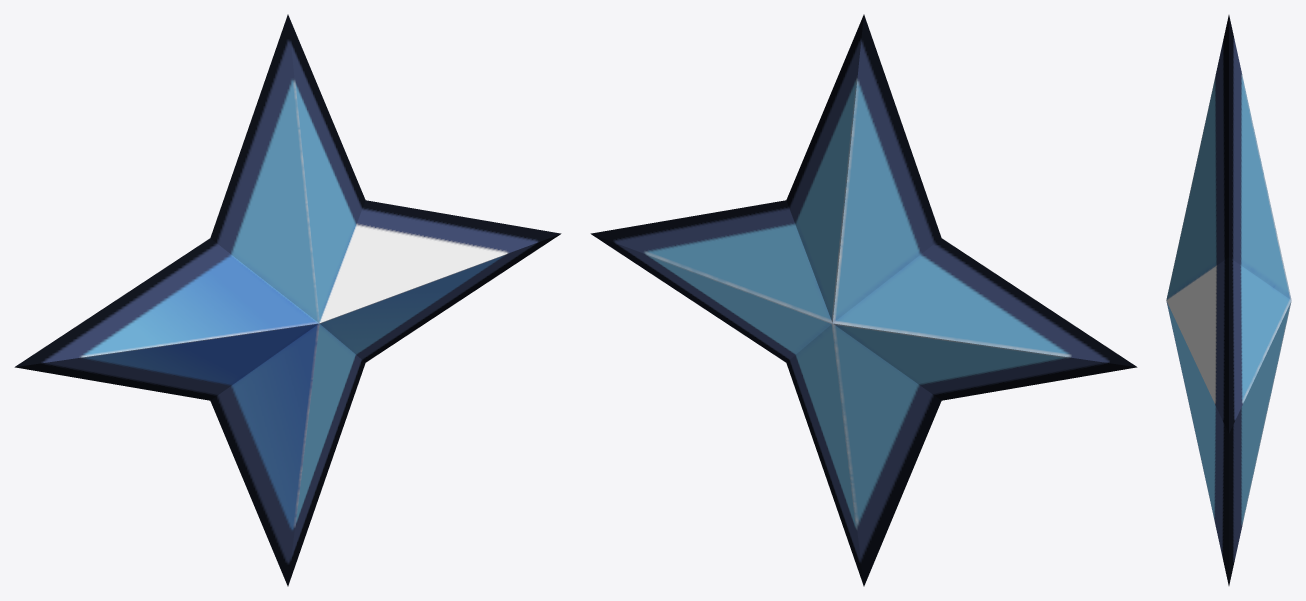
Rendered from Board_Star_Blue.fbx.
The picture shows the model from 3 angles, left to right: view 1: azimuth 30°, elevation 25°; view 2: azimuth 150°, elevation 25°; view 3: azimuth 270°, elevation 25°; orthographic projection.
Parts seen in each view (by area): view 1: Board_Star_Blue; view 2: Board_Star_Blue; view 3: Board_Star_Blue.
Part boxes in pixels (x1=…): Board_Star_Blue: x1=14, y1=14, x2=561, y2=586; Board_Star_Blue: x1=590, y1=14, x2=1137, y2=586; Board_Star_Blue: x1=1166, y1=15, x2=1291, y2=585.
Bounding box in the file's own units: 1 × 1 × 0.1984.
